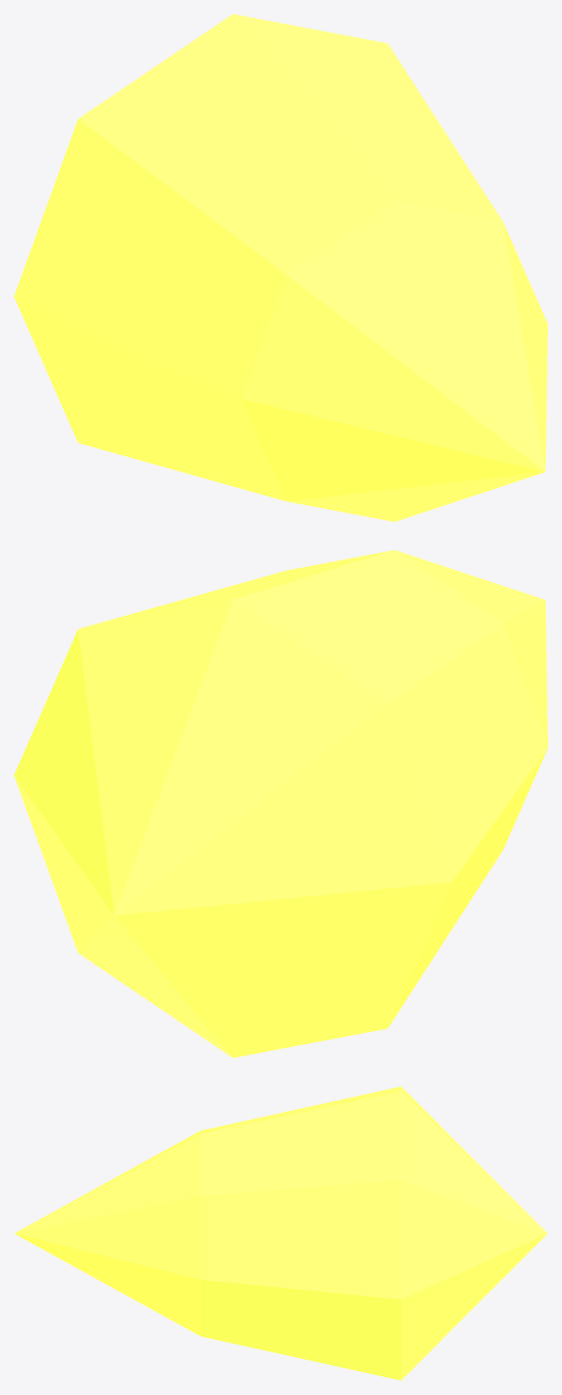
The model's file is acid_drop.glb.
3 renders of one model, top to bottom at view 1: azimuth 30°, elevation 25°; view 2: azimuth 150°, elevation 25°; view 3: azimuth 270°, elevation 25°, orthographic. The views are drawn at different scales.
Parts seen in each view (by area): view 1: acid_drop; view 2: acid_drop; view 3: acid_drop.
Boxes of the visible parts, x1,y1,x2,y2 form: acid_drop: (14,14,547,521); acid_drop: (14,550,547,1057); acid_drop: (14,1086,547,1380).
Bounding box in the file's own units: 0.17 × 0.17 × 0.29.
